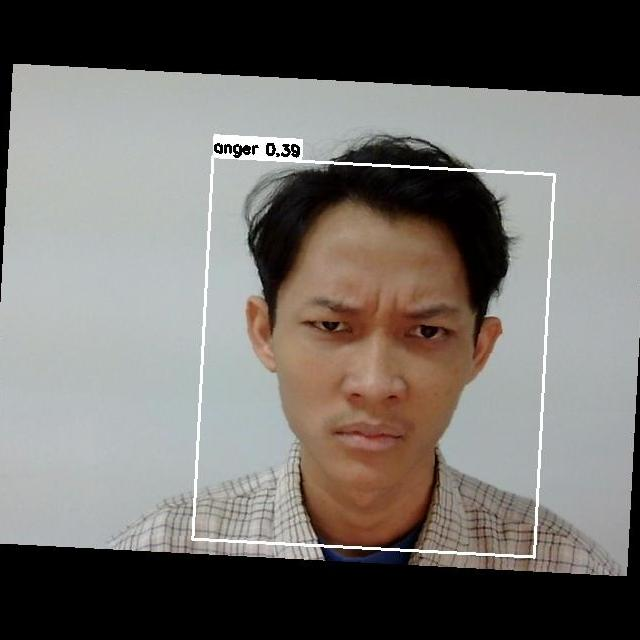Angry: (263, 262, 488, 470)
